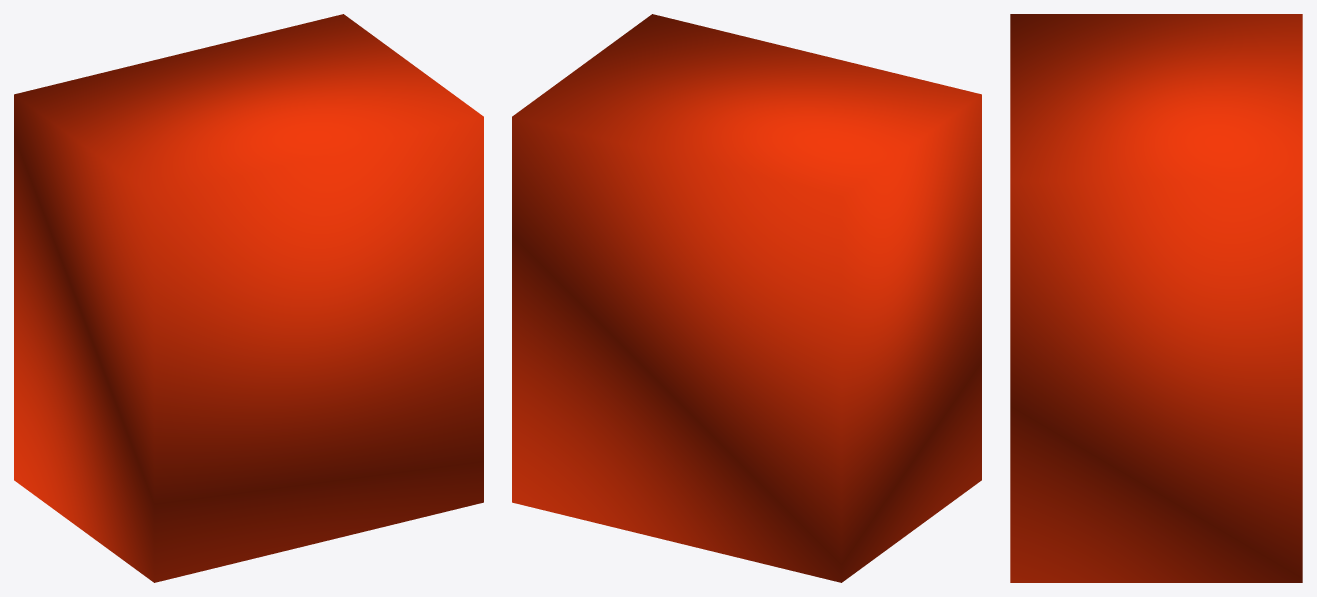
File: EMPTY.glb
3 renders of one model, left to right at view 1: azimuth 30°, elevation 25°; view 2: azimuth 150°, elevation 25°; view 3: azimuth 270°, elevation 25°, orthographic. The views are drawn at different scales.
Parts seen in each view (by area): view 1: EMPTY-col; view 2: EMPTY-col; view 3: EMPTY-col.
Part boxes in pixels (left/top/right/bottom): EMPTY-col: left=14, top=14, right=483, bottom=582; EMPTY-col: left=512, top=14, right=981, bottom=582; EMPTY-col: left=1010, top=14, right=1302, bottom=582.
Size of the model in its own units: 0.1445 by 0.1617 by 0.1066.
Materials: 1 (1 with a texture image).
